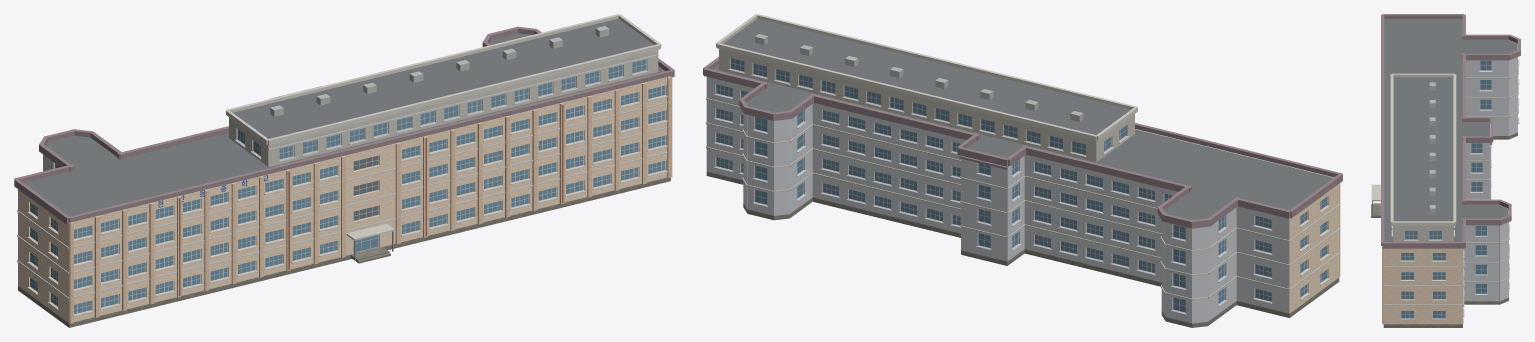
3 views of the same model, side by side, from view 1: azimuth 30°, elevation 25°; view 2: azimuth 150°, elevation 25°; view 3: azimuth 270°, elevation 25° (orthographic). The views are drawn at different scales.
Parts seen in each view (by area): view 1: main__brick, main__greyroof, main__glass, main__pier, main__white, main__frame, main__cornice, main__cream, main__cap, main__stone, main__unit, main__pipe (+2 smaller); view 2: main__white, main__greyroof, main__sideglass, main__cream, main__cornice, main__frame, main__cap, main__brick, main__stone, main__unit; view 3: main__greyroof, main__white, main__brick, main__cornice, main__sideglass, main__cap, main__cream, main__frame, main__stone, main__unit, main__pier.
Boxes of the visible parts, left/top/right/bottom form: main__brick: left=18, top=76, right=669, bottom=322; main__greyroof: left=24, top=18, right=664, bottom=216; main__glass: left=74, top=59, right=665, bottom=313; main__pier: left=69, top=76, right=672, bottom=323; main__white: left=17, top=54, right=667, bottom=316; main__frame: left=30, top=59, right=665, bottom=314; main__cornice: left=14, top=26, right=674, bottom=224; main__cream: left=17, top=50, right=658, bottom=260; main__cap: left=226, top=14, right=661, bottom=239; main__stone: left=18, top=177, right=670, bottom=327; main__unit: left=270, top=26, right=609, bottom=116; main__pipe: left=179, top=105, right=563, bottom=296; main__white: left=706, top=69, right=1339, bottom=323; main__greyroof: left=712, top=18, right=1333, bottom=219; main__sideglass: left=716, top=58, right=1327, bottom=312; main__cream: left=706, top=49, right=1289, bottom=300; main__cornice: left=703, top=57, right=1342, bottom=228; main__frame: left=716, top=58, right=1327, bottom=312; main__cap: left=716, top=14, right=1137, bottom=140; main__brick: left=1289, top=184, right=1339, bottom=313; main__stone: left=706, top=171, right=1339, bottom=327; main__unit: left=755, top=34, right=1083, bottom=121; main__greyroof: left=1384, top=19, right=1517, bottom=241; main__white: left=1372, top=44, right=1519, bottom=323; main__brick: left=1383, top=248, right=1462, bottom=324; main__cornice: left=1381, top=14, right=1520, bottom=248; main__sideglass: left=1401, top=60, right=1491, bottom=318; main__cap: left=1371, top=73, right=1456, bottom=225; main__cream: left=1393, top=65, right=1518, bottom=305; main__frame: left=1401, top=61, right=1491, bottom=318; main__stone: left=1383, top=132, right=1517, bottom=327; main__unit: left=1429, top=82, right=1435, bottom=213; main__pier: left=1382, top=246, right=1383, bottom=324.
Size of the model in its own units: 88.86 by 19.36 by 24.56.
16 materials, 5 textured.
